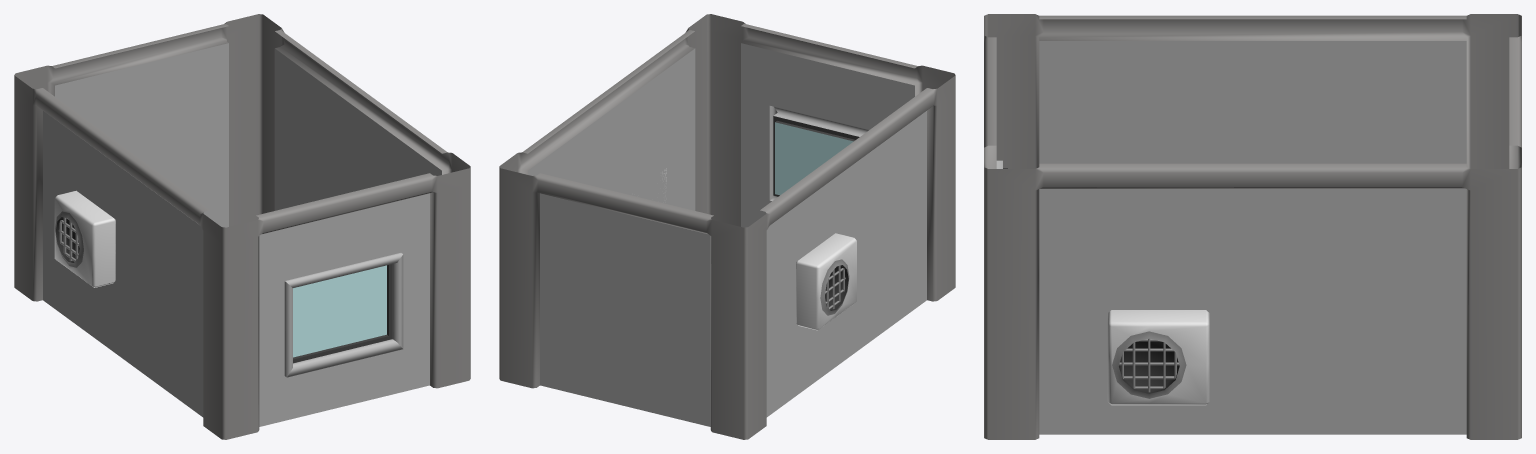
File: MidFloor1.fbx
3 renders of one model, left to right at view 1: azimuth 30°, elevation 25°; view 2: azimuth 150°, elevation 25°; view 3: azimuth 270°, elevation 25°, orthographic. The views are drawn at different scales.
Visible parts, largest first — view 1: MidFloor1, ACUnit2; view 2: MidFloor1, ACUnit2; view 3: MidFloor1, ACUnit1.
Part boxes in pixels (box(x1,y1,x2,y2)): MidFloor1: box(14, 14, 470, 439); ACUnit2: box(54, 190, 115, 287); MidFloor1: box(499, 14, 955, 439); ACUnit2: box(796, 233, 856, 330); MidFloor1: box(984, 14, 1521, 439); ACUnit1: box(1107, 310, 1209, 405).
Size of the model in its own units: 490 by 350 by 629.
